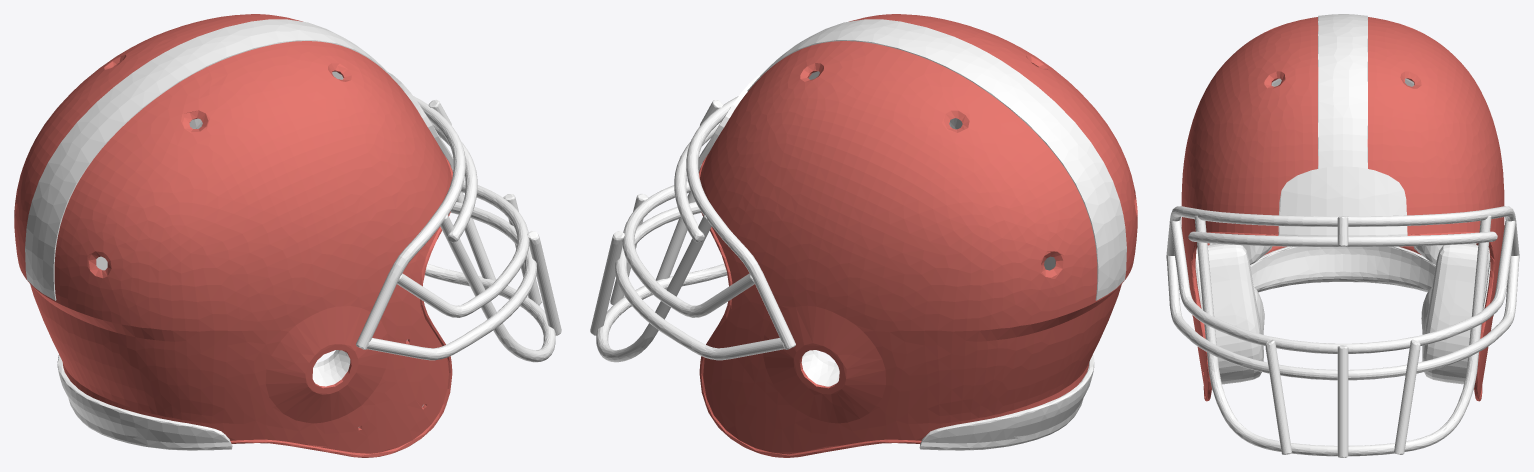
Rendered from helmet.gltf.
3 views of the same model, side by side, from view 1: azimuth 30°, elevation 25°; view 2: azimuth 150°, elevation 25°; view 3: azimuth 270°, elevation 25° (orthographic). The views are drawn at different scales.
Parts seen in each view (by area): view 1: node-0; view 2: node-0; view 3: node-0.
Part boxes in pixels (<box>): node-0: <box>14,14,561,457</box>; node-0: <box>590,14,1137,457</box>; node-0: <box>1166,14,1519,457</box>.
Size of the model in its own units: 252 by 181 by 176.
